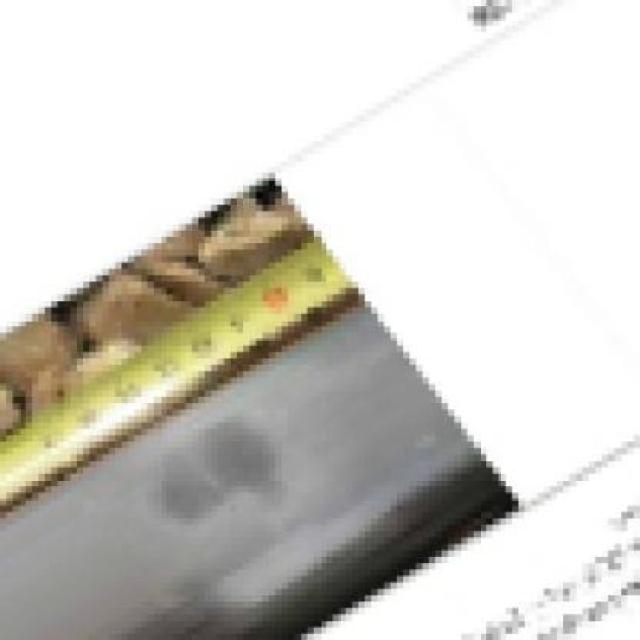non-defective: (0, 208, 537, 640)
